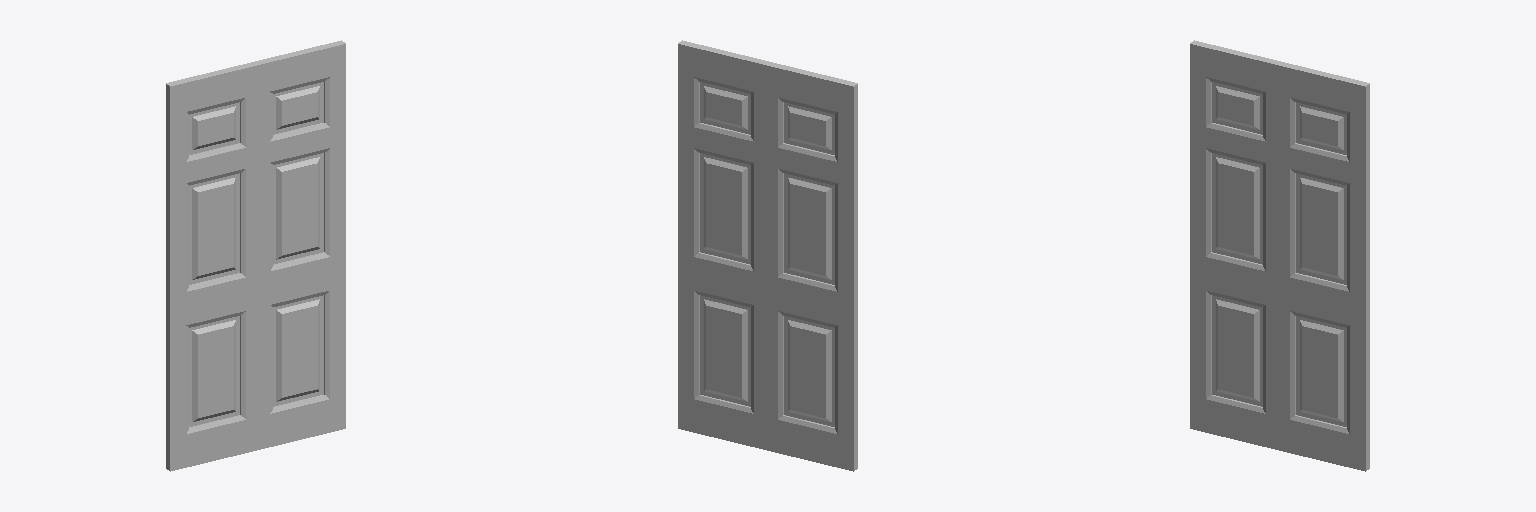
File: door.obj
3 renders of one model, left to right at view 1: azimuth 30°, elevation 25°; view 2: azimuth 150°, elevation 25°; view 3: azimuth 330°, elevation 25°, orthographic.
Parts seen in each view (by area): view 1: doorboard; view 2: doorboard; view 3: doorboard.
Boxes of the visible parts, x1,y1,x2,y2 form: doorboard: [166, 40, 345, 471]; doorboard: [678, 40, 857, 471]; doorboard: [1190, 40, 1369, 471].
Bounding box in the file's own units: 44 × 92 × 2.